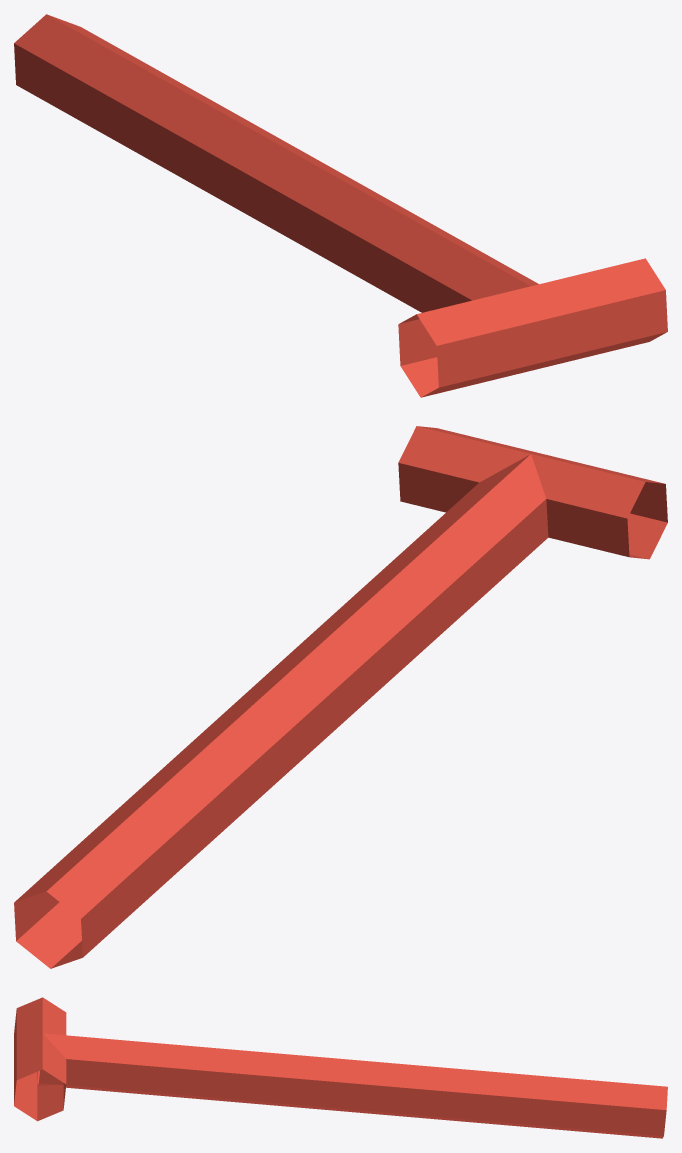
Rendered from SM_Telehandler_Arm_Piston_Base_B.fbx.
The picture shows the model from 3 angles, top to bottom: view 1: azimuth 30°, elevation 25°; view 2: azimuth 150°, elevation 25°; view 3: azimuth 270°, elevation 25°; orthographic projection. The views are drawn at different scales.
Parts seen in each view (by area): view 1: SM_Telehandler_Arm_Piston_Base_B; view 2: SM_Telehandler_Arm_Piston_Base_B; view 3: SM_Telehandler_Arm_Piston_Base_B.
Boxes of the visible parts, bbox=[...] form: SM_Telehandler_Arm_Piston_Base_B: bbox=[14, 14, 667, 397]; SM_Telehandler_Arm_Piston_Base_B: bbox=[14, 426, 667, 968]; SM_Telehandler_Arm_Piston_Base_B: bbox=[14, 997, 667, 1138].
Size of the model in its own units: 102 by 26.73 by 18.2.
